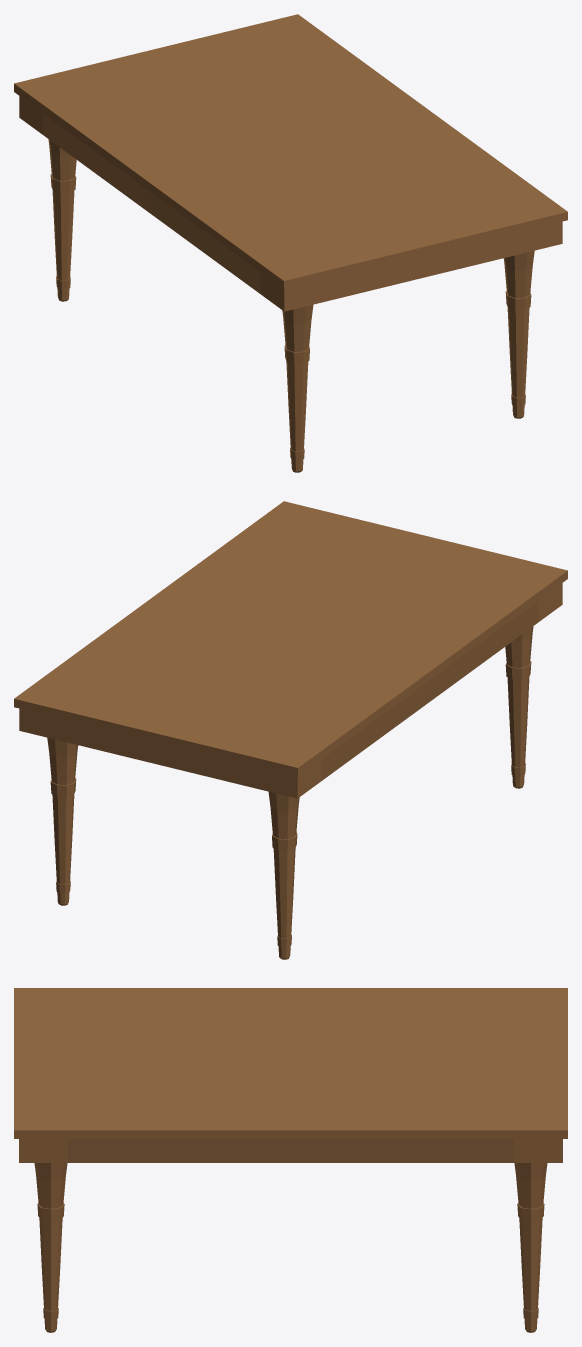
File: Kitchen_Table.fbx
3 views of the same model, one above another, from view 1: azimuth 30°, elevation 25°; view 2: azimuth 150°, elevation 25°; view 3: azimuth 270°, elevation 25° (orthographic). The views are drawn at different scales.
Visible parts, largest first — view 1: Table; view 2: Table; view 3: Table.
Boxes of the visible parts, left/top/right/bottom form: Table: left=14, top=14, right=567, bottom=472; Table: left=14, top=501, right=567, bottom=959; Table: left=14, top=988, right=567, bottom=1332.
Size of the model in its own units: 1808 by 1281 by 2975.
